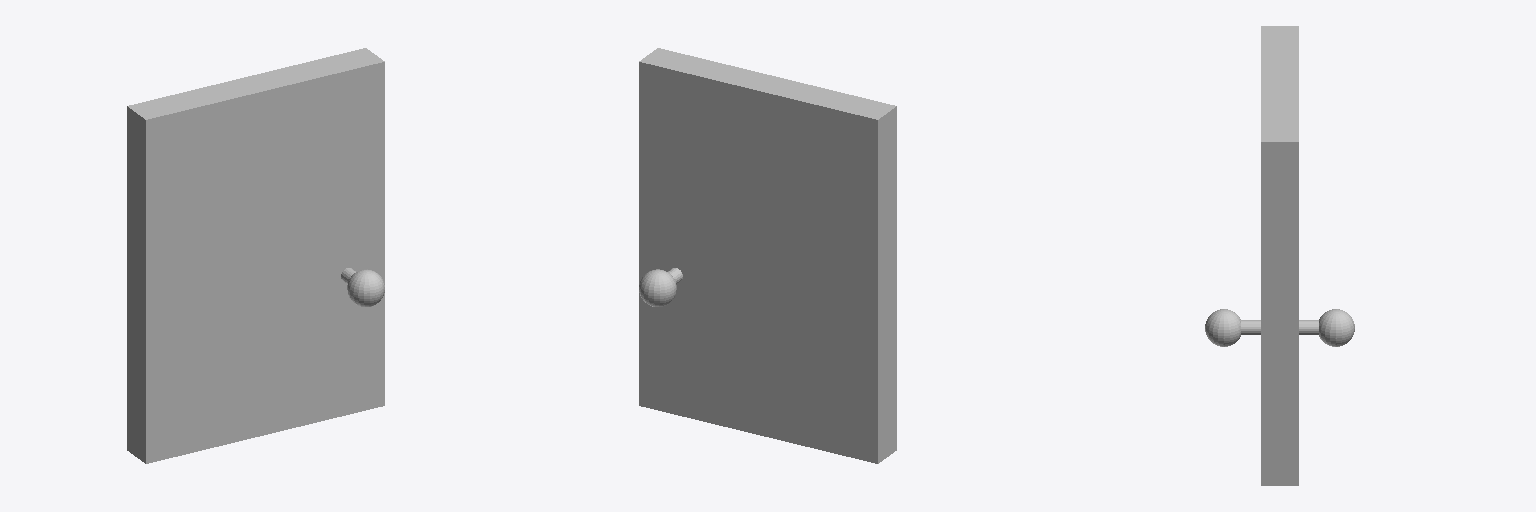
The model's file is puerta.obj.
3 views of the same model, side by side, from view 1: azimuth 30°, elevation 25°; view 2: azimuth 150°, elevation 25°; view 3: azimuth 270°, elevation 25° (orthographic).
Visible parts, largest first — view 1: polySurface8; view 2: polySurface8; view 3: polySurface8.
Boxes of the visible parts, x1,y1,x2,y2 form: polySurface8: [127, 48, 384, 463]; polySurface8: [639, 48, 896, 463]; polySurface8: [1205, 26, 1354, 485].
Size of the model in its own units: 3.63 by 5 by 1.98.